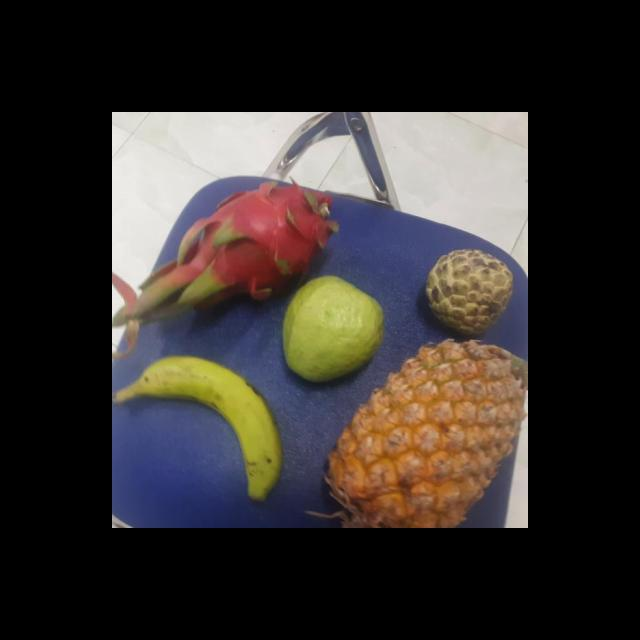Sakya fruit: (420, 250, 514, 336)
banana: (116, 358, 284, 491)
guava: (278, 276, 385, 382)
pitaya: (190, 178, 330, 307)
